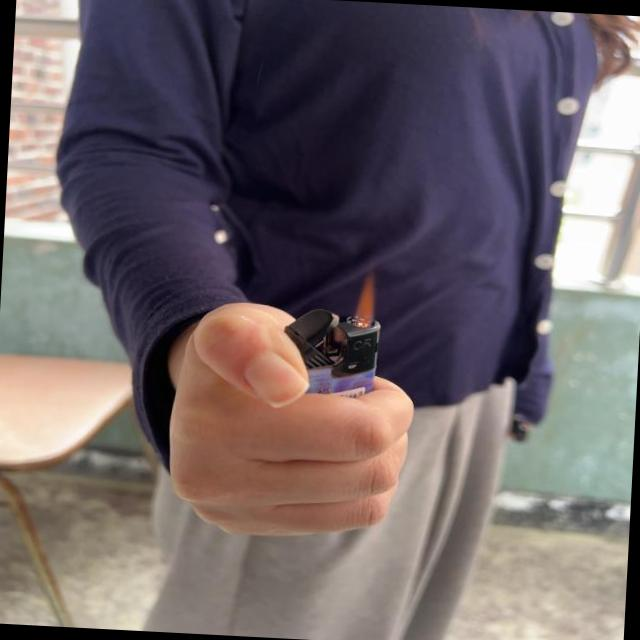Fire: (352, 270, 377, 328)
